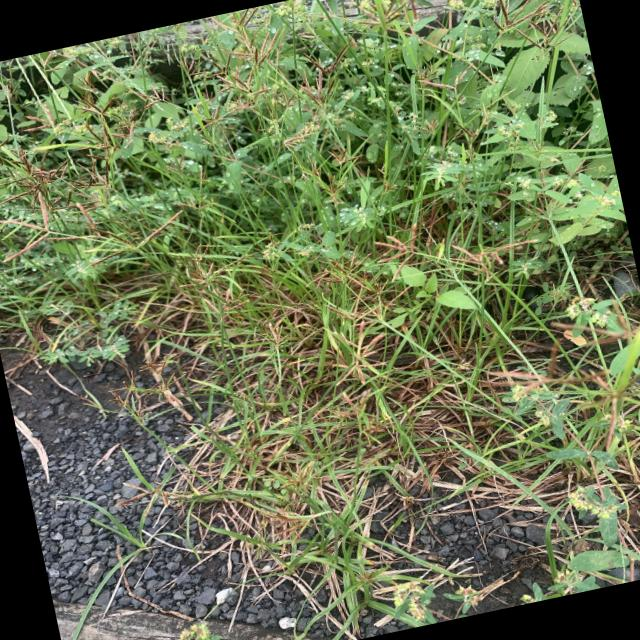cyperus: (470, 291, 640, 458), (0, 103, 153, 275), (364, 196, 548, 302), (174, 3, 291, 132), (258, 252, 374, 344), (276, 36, 367, 125), (479, 0, 579, 67), (171, 240, 244, 330), (100, 356, 186, 416), (296, 139, 371, 206), (341, 0, 436, 44), (414, 54, 484, 105)
